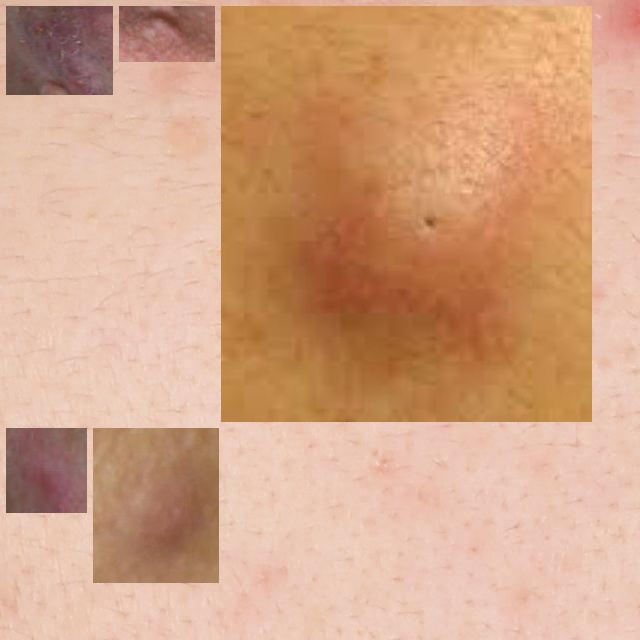nodule: (229, 14, 584, 414), (101, 436, 211, 575), (14, 14, 105, 87), (14, 436, 79, 505), (127, 14, 207, 54)
